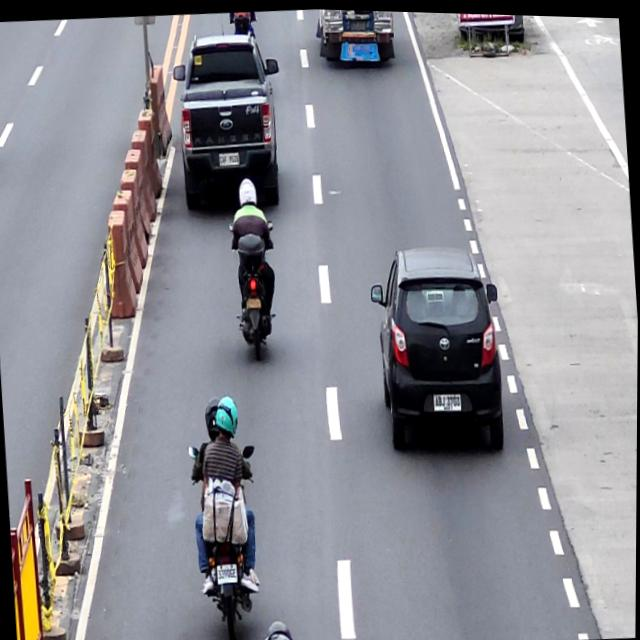Car: (368, 238, 510, 455), (170, 27, 288, 211)
License-Plate: (432, 388, 462, 411), (216, 561, 239, 580), (218, 151, 240, 165), (247, 294, 262, 309)
Motorcycle: (187, 432, 265, 640), (228, 211, 284, 360)
